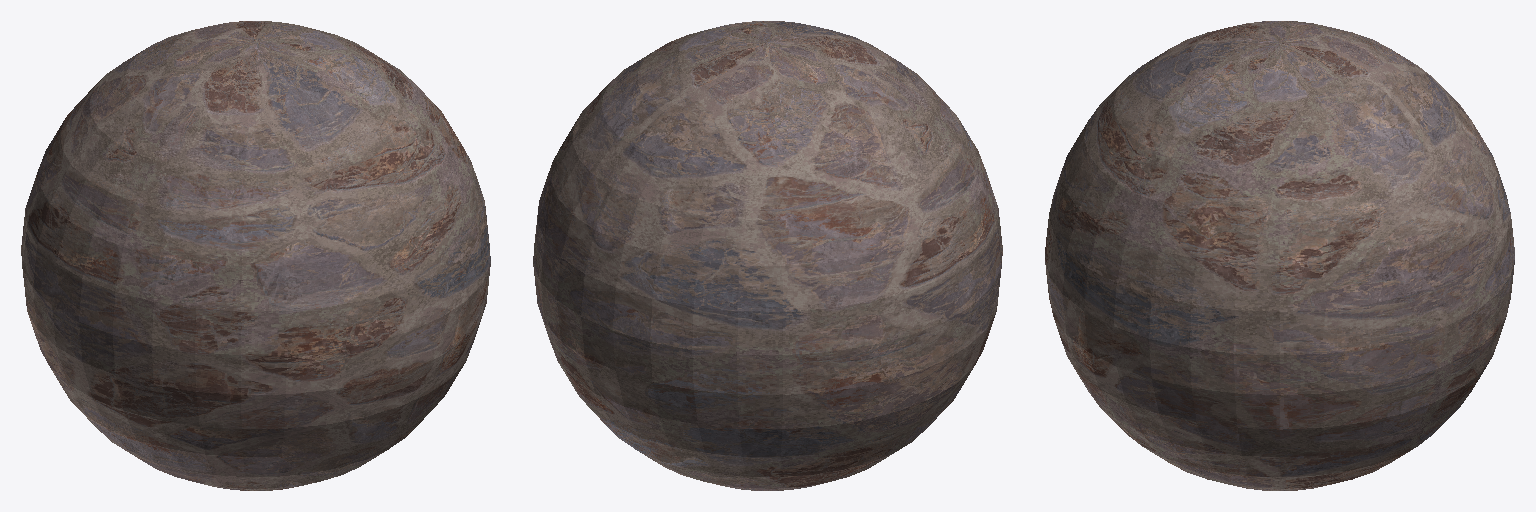
3 renders of one model, left to right at view 1: azimuth 30°, elevation 25°; view 2: azimuth 150°, elevation 25°; view 3: azimuth 270°, elevation 25°, orthographic.
Visible parts, largest first — view 1: Sphere; view 2: Sphere; view 3: Sphere.
Part boxes in pixels (bbox=[...]): Sphere: bbox=[21, 21, 490, 490]; Sphere: bbox=[533, 21, 1002, 490]; Sphere: bbox=[1045, 21, 1514, 490].
Bounding box in the file's own units: 2 × 2 × 2.
1 materials, 1 textured.